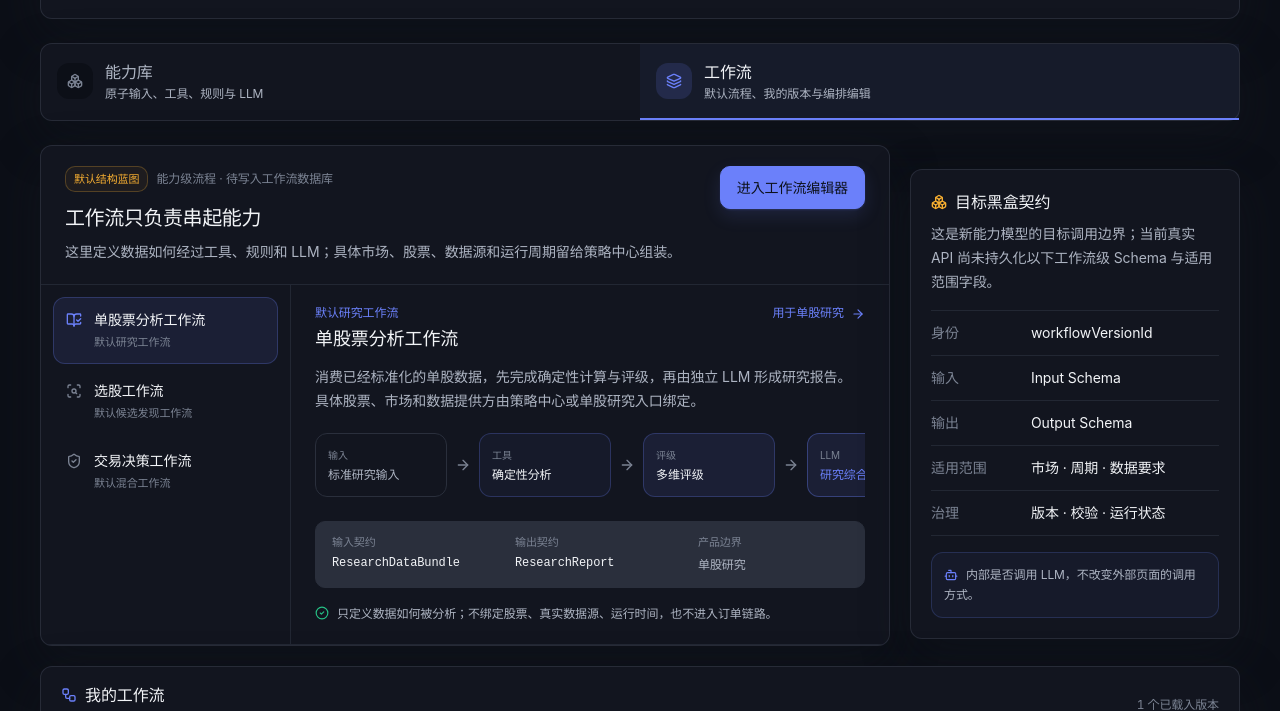
CapabilityCenterPage › presents single-stock research and screening as reusable workflow blueprints
This screenshot has width=1280, height=711.
(page scrolled)
Check: the heading "工作流只负责串起能力" is shown, box [65,206,261,230]
Check: the text "只定义数据如何被分析；不绑定股票、真实数据源、运行时间，也不进入订单链路。" is shown, box [315,606,778,621]
Click the button "选股工作流 默认候选发现工作流" at (166, 401), box [53,368,278,434]
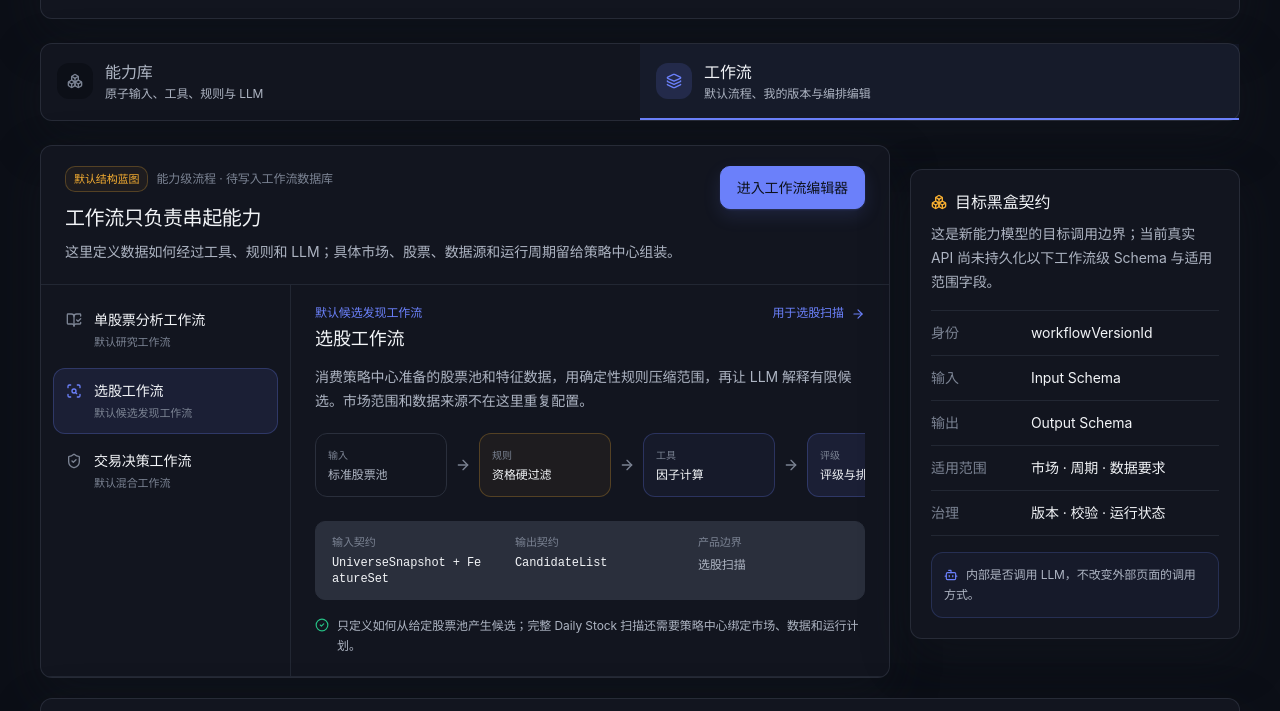
Check: the text "CandidateList" is shown, box [515,556,607,570]
Check: the text "资格硬过滤" is shown, box [492,467,552,482]
Check: the text "只定义如何从给定股票池产生候选；完整 Daily Stock 扫描还需要策略中心绑定市场、数据和运行计划。" is shown, box [315,616,865,656]
Click the button "交易决策工作流 默认混合工作流" at (166, 471), box [53,438,278,505]
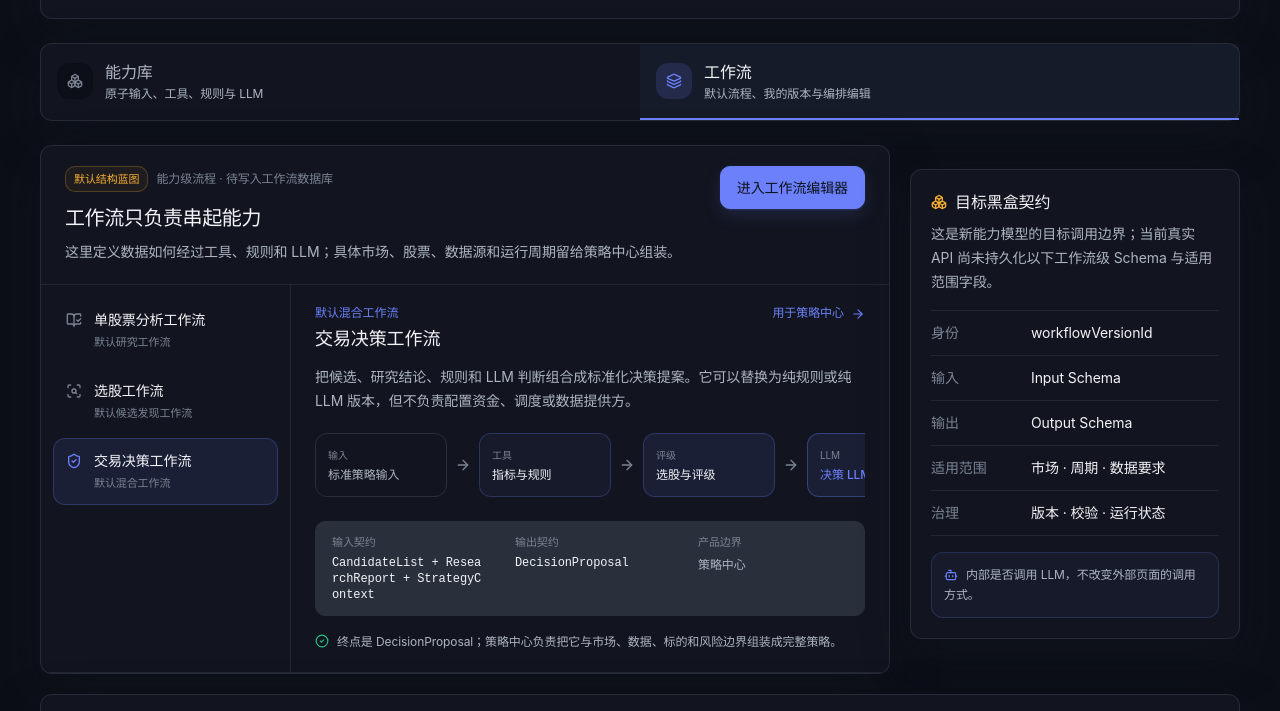
Check: the text "终点是 DecisionProposal；策略中心负责把它与市场、数据、标的和风险边界组装成完整策略。" is shown, box [315,632,865,652]
